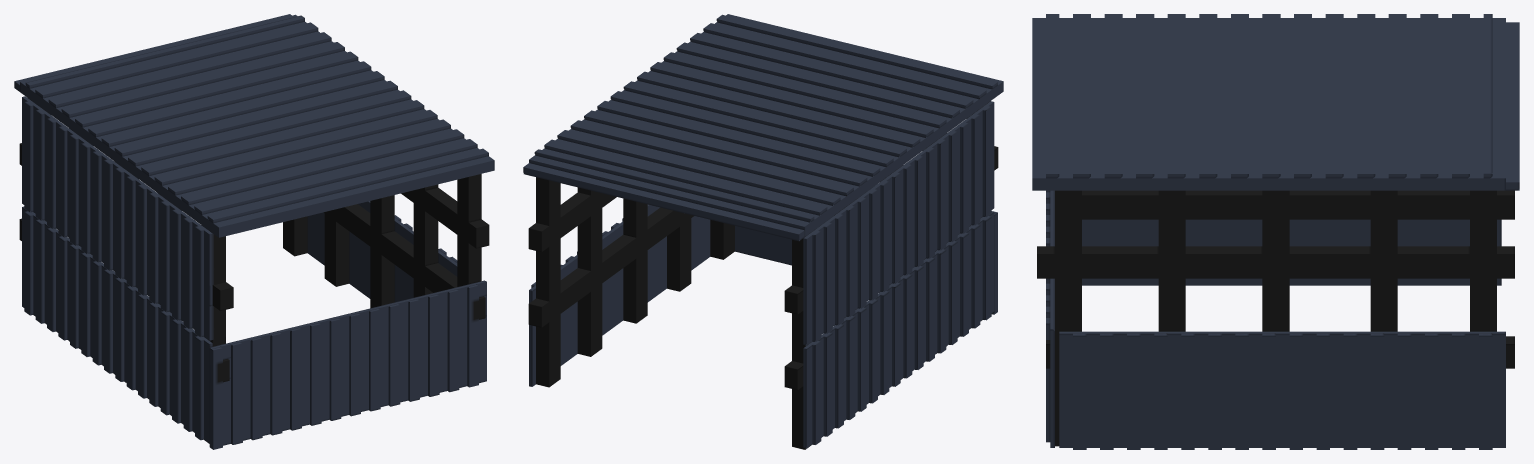
The model's file is otwarty_magazyn_altana.dae.
3 renders of one model, left to right at view 1: azimuth 30°, elevation 25°; view 2: azimuth 150°, elevation 25°; view 3: azimuth 270°, elevation 25°, orthographic. The views are drawn at different scales.
Parts seen in each view (by area): view 1: Content; view 2: Content; view 3: Content.
Boxes of the visible parts, x1,y1,x2,y2 form: Content: (14, 14, 494, 449); Content: (523, 14, 1003, 449); Content: (1032, 14, 1519, 449).
Size of the model in its own units: 86 by 67 by 108.
Materials: 1 (1 with a texture image).
